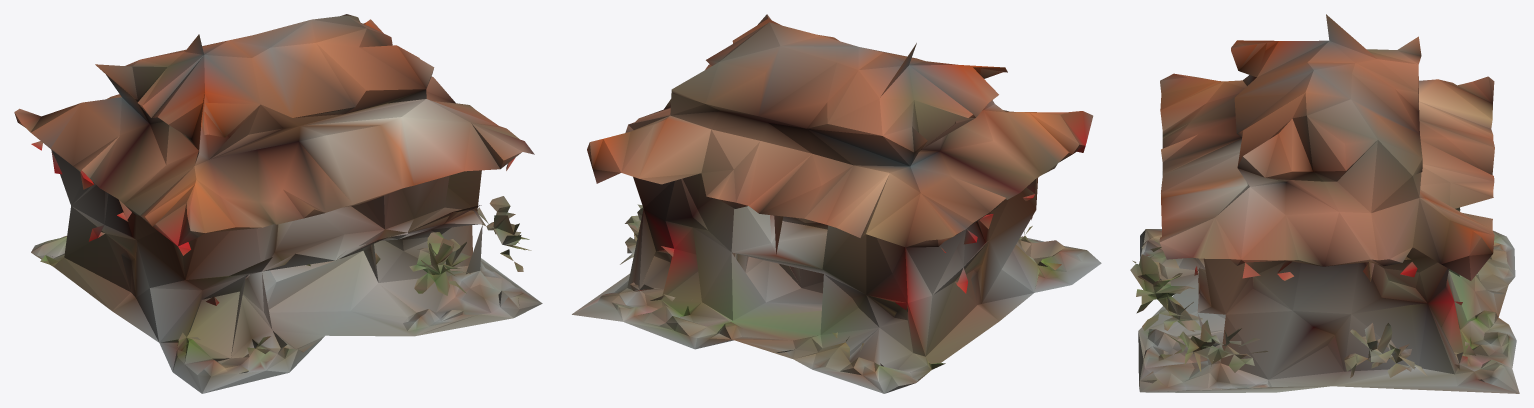
Rendered from bq_yamen.vc2.glb.
The picture shows the model from 3 angles, left to right: view 1: azimuth 30°, elevation 25°; view 2: azimuth 150°, elevation 25°; view 3: azimuth 270°, elevation 25°; orthographic projection.
Visible parts, largest first — view 1: bq_yamen; view 2: bq_yamen; view 3: bq_yamen.
Part boxes in pixels (x1=…): bq_yamen: x1=14, y1=14, x2=542, y2=393; bq_yamen: x1=572, y1=14, x2=1101, y2=393; bq_yamen: x1=1130, y1=14, x2=1519, y2=393.
Bounding box in the file's own units: 1.88 × 1.29 × 1.72.
